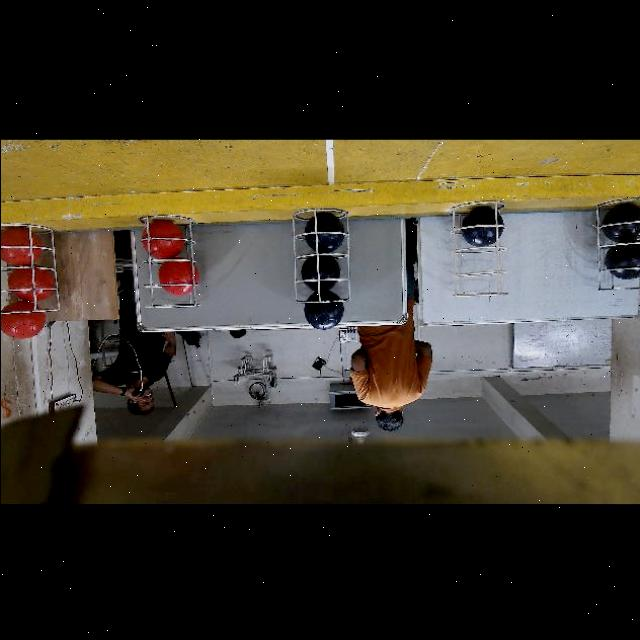P: (300, 290, 343, 329), (460, 206, 500, 245), (602, 239, 640, 279), (302, 214, 343, 251), (300, 255, 340, 292), (604, 200, 640, 239)
R: (7, 264, 53, 301), (0, 300, 44, 338), (0, 226, 40, 266), (141, 219, 182, 258), (158, 256, 198, 294)
S: (140, 209, 198, 309), (0, 220, 60, 316), (298, 206, 354, 300), (454, 207, 504, 303), (596, 201, 640, 291)
